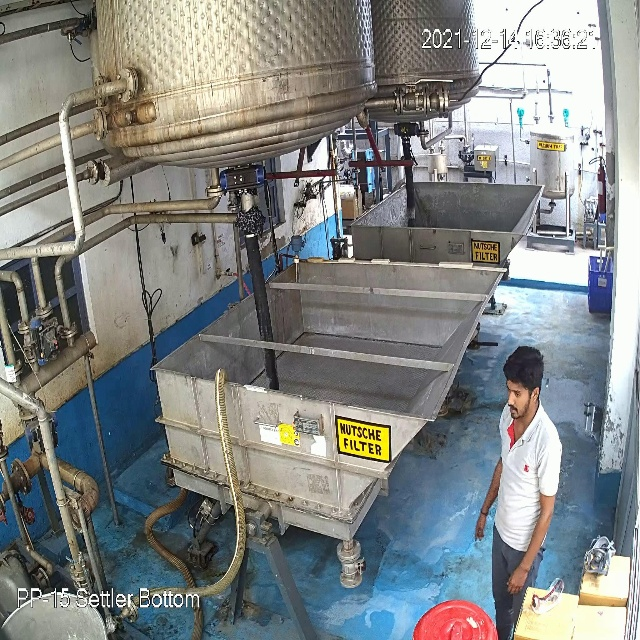Sin_gafas: (502, 382, 531, 404)
Sin_mascara: (505, 395, 531, 421)
